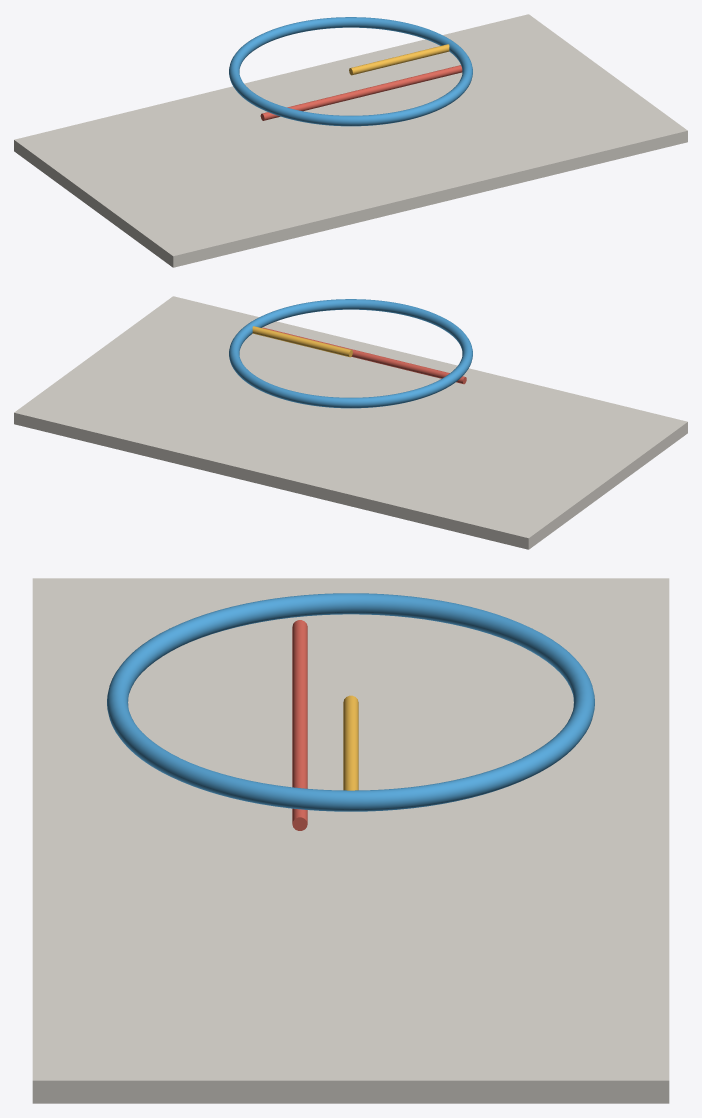
The model's file is math-geometry-circle.glb.
3 views of the same model, one above another, from view 1: azimuth 30°, elevation 25°; view 2: azimuth 150°, elevation 25°; view 3: azimuth 270°, elevation 25° (orthographic). The views are drawn at different scales.
Visible parts, largest first — view 1: manipulative-base, circumference, diameter, radius; view 2: manipulative-base, circumference, diameter, radius; view 3: manipulative-base, circumference, diameter, radius.
Part boxes in pixels (box(x1,y1,x2,y2)): manipulative-base: box(14, 14, 687, 267); circumference: box(229, 17, 472, 126); diameter: box(260, 65, 462, 120); radius: box(349, 44, 449, 75); manipulative-base: box(14, 296, 687, 549); circumference: box(229, 299, 472, 408); diameter: box(262, 327, 466, 384); radius: box(252, 326, 352, 357); manipulative-base: box(32, 578, 669, 1103); circumference: box(107, 593, 594, 811); diameter: box(292, 620, 307, 830); radius: box(343, 695, 358, 790).
Size of what is drawn, in the model's own units: 2.8 by 0.415 by 1.5.
